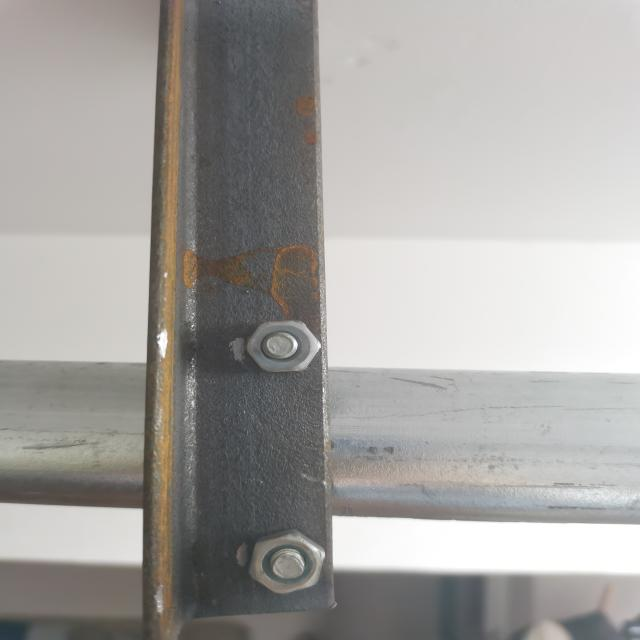bolt nut: (243, 528, 329, 596), (243, 318, 325, 377)
